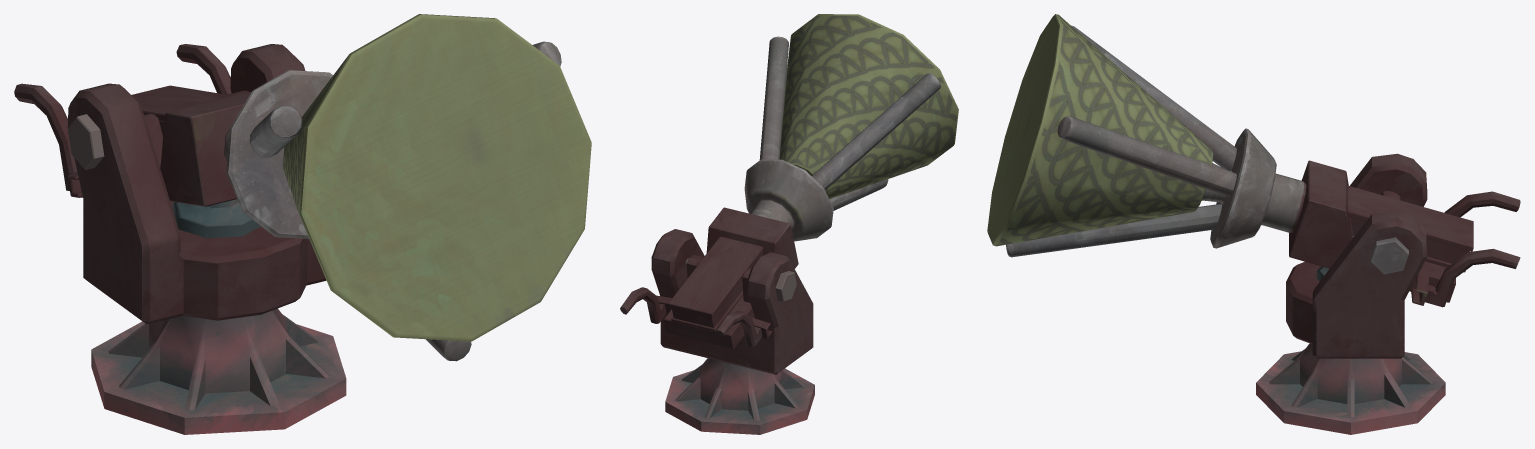
File: Ami_alfa_03.fbx
The picture shows the model from 3 angles, left to right: view 1: azimuth 30°, elevation 25°; view 2: azimuth 150°, elevation 25°; view 3: azimuth 270°, elevation 25°; orthographic projection. The views are drawn at different scales.
Visible parts, largest first — view 1: Ami_demo_cen; view 2: Ami_demo_cen; view 3: Ami_demo_cen.
Boxes of the visible parts, bbox=[...] form: Ami_demo_cen: bbox=[14, 14, 591, 434]; Ami_demo_cen: bbox=[620, 14, 958, 434]; Ami_demo_cen: bbox=[987, 14, 1520, 434].
Bounding box in the file's own units: 1.71 × 2.88 × 3.77.
1 material, 1 textured.
